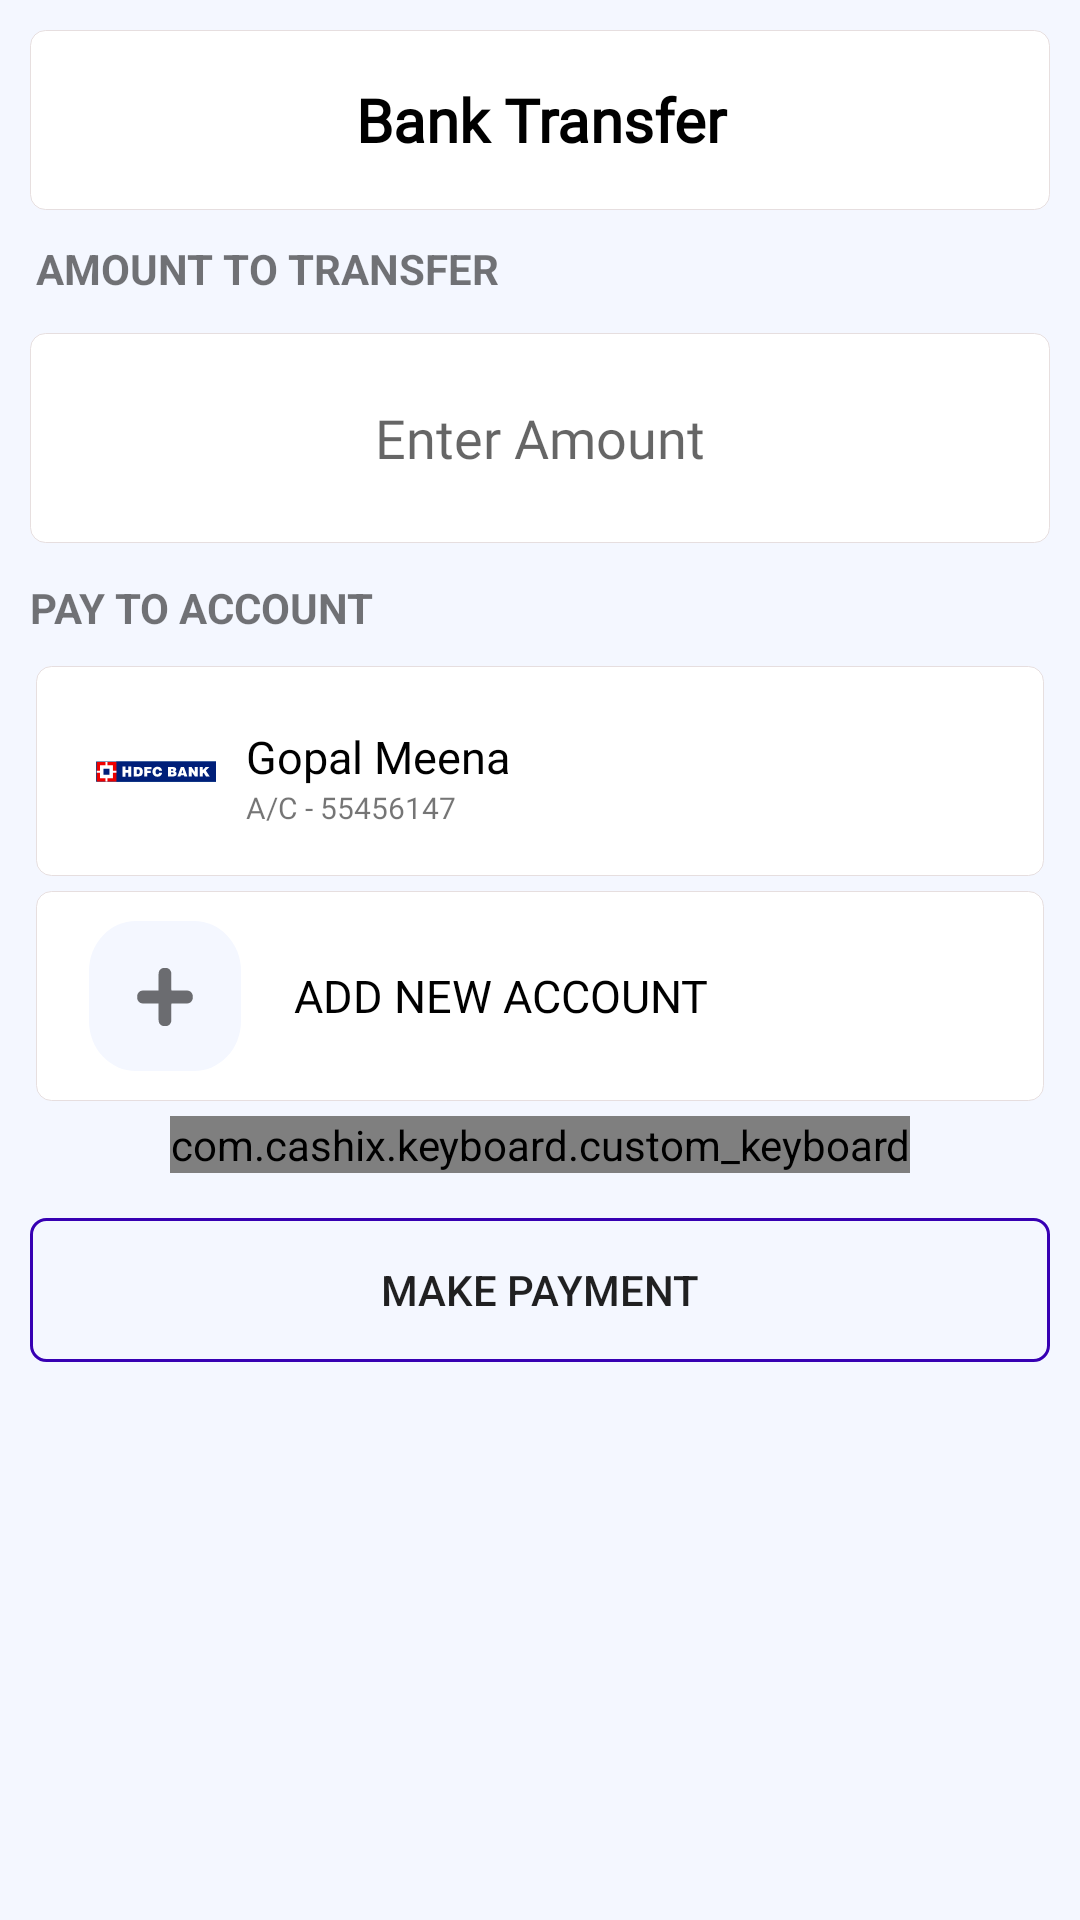

Named icons in this screenshot (1080x1920) and their bounding boxes, {"left": x1, "top": y1, "right": x2, "bottom": y2}:
plusicon: {"left": 89, "top": 921, "right": 241, "bottom": 1071}
